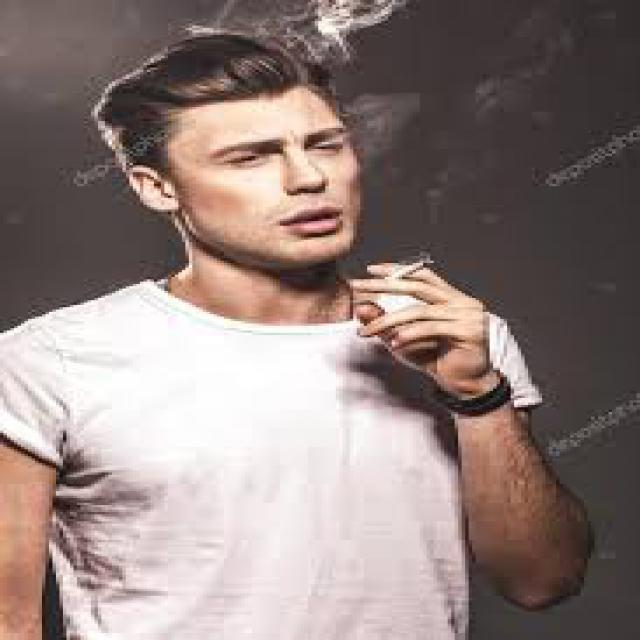smoking: (347, 235, 455, 298)
